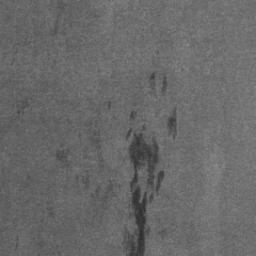Iron scale compression: (124, 127, 164, 256), (168, 108, 177, 140), (161, 75, 168, 93), (150, 74, 156, 87)
